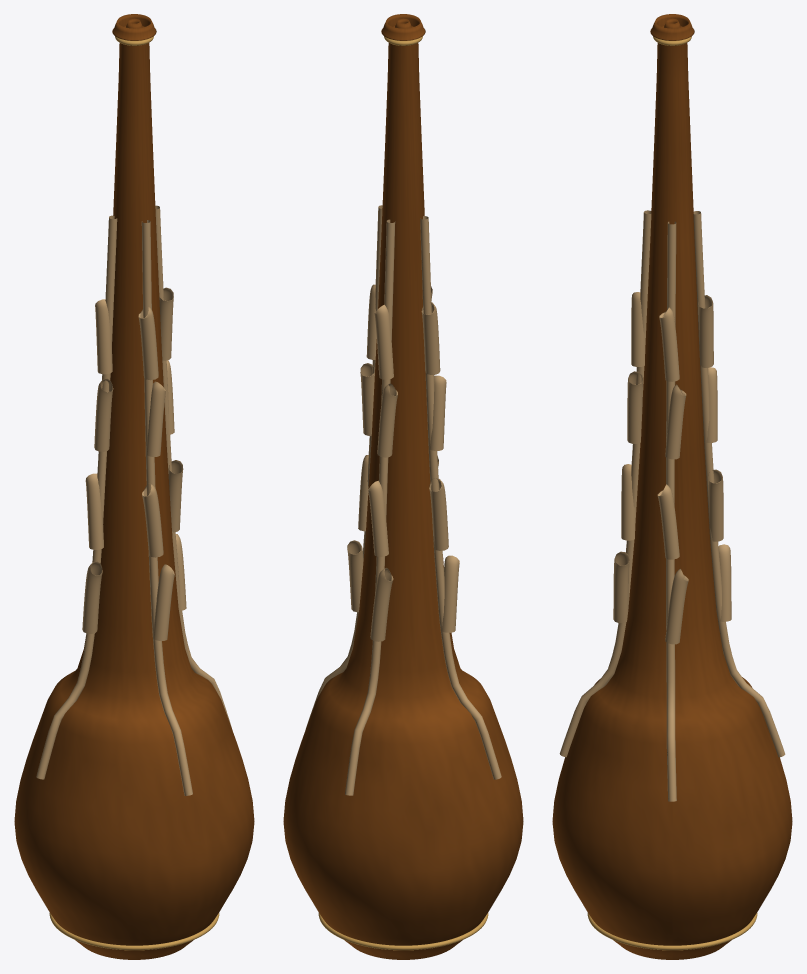
Rendered from bcm-995.glb.
The picture shows the model from 3 angles, left to right: view 1: azimuth 30°, elevation 25°; view 2: azimuth 150°, elevation 25°; view 3: azimuth 270°, elevation 25°; orthographic projection.
Parts seen in each view (by area): view 1: Continuous hollow vessel with formed lip, Botanical stem - simplified, Rim and foot highlight; view 2: Continuous hollow vessel with formed lip, Botanical stem - simplified, Rim and foot highlight; view 3: Continuous hollow vessel with formed lip, Botanical stem - simplified, Rim and foot highlight.
Part boxes in pixels (x1,y1,x2,y2): Continuous hollow vessel with formed lip: (14, 14, 254, 959); Botanical stem - simplified: (36, 205, 231, 795); Rim and foot highlight: (49, 36, 219, 950); Continuous hollow vessel with formed lip: (283, 14, 523, 959); Botanical stem - simplified: (306, 205, 501, 795); Rim and foot highlight: (318, 36, 488, 950); Continuous hollow vessel with formed lip: (552, 14, 792, 959); Botanical stem - simplified: (559, 210, 785, 801); Rim and foot highlight: (587, 36, 757, 950).
Bounding box in the file's own units: 0.38 × 1.6 × 0.38.
